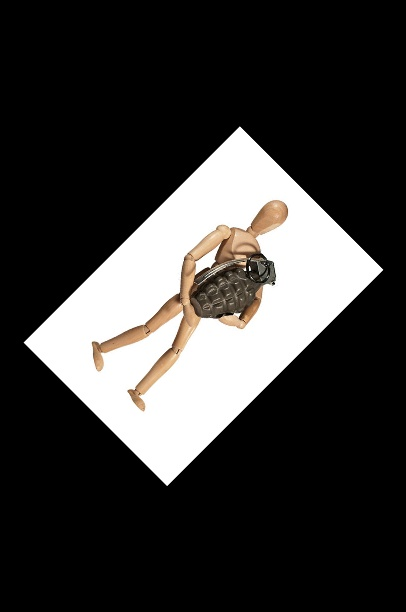e1: (189, 251, 279, 322)
